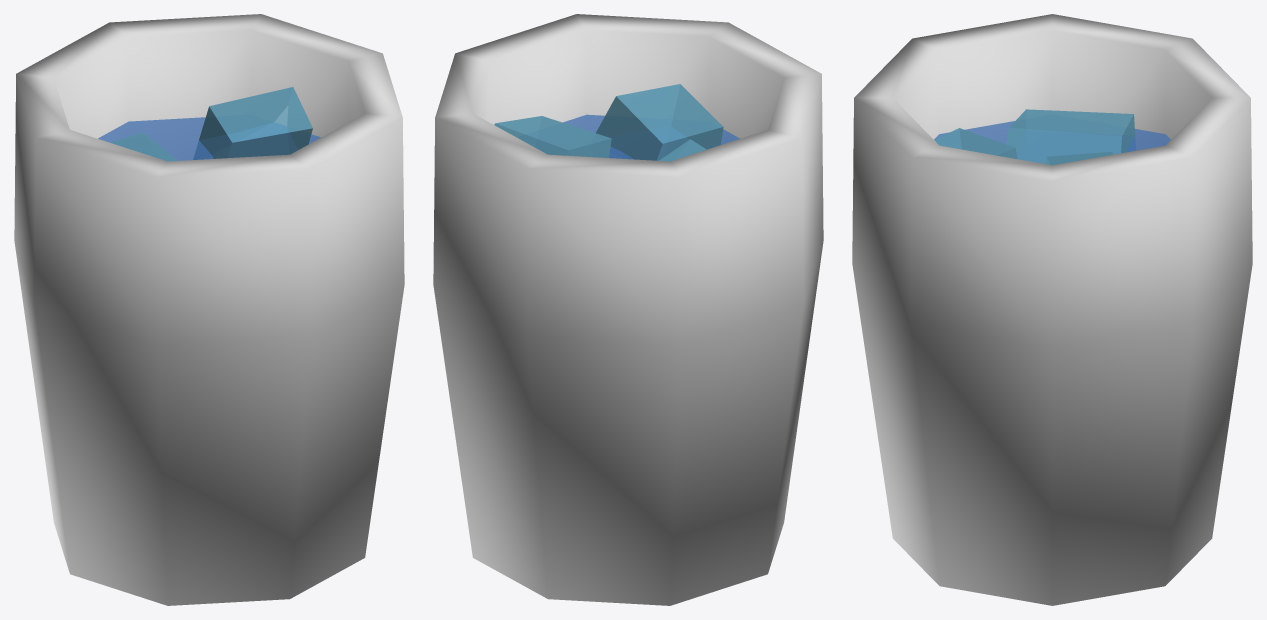
File: ParisCup.glb
3 renders of one model, left to right at view 1: azimuth 30°, elevation 25°; view 2: azimuth 150°, elevation 25°; view 3: azimuth 270°, elevation 25°, orthographic.
Visible parts, largest first — view 1: Cup, Ice.001, Water, Ice.003; view 2: Cup, Ice.002, Ice.001, Water; view 3: Cup, Ice.003, Water, Ice.002.
Part boxes in pixels (x1=…): Cup: x1=14, y1=14, x2=404, y2=605; Ice.001: x1=193, y1=87, x2=312, y2=159; Water: x1=98, y1=117, x2=320, y2=160; Ice.003: x1=111, y1=132, x2=177, y2=161; Cup: x1=433, y1=14, x2=823, y2=605; Ice.002: x1=596, y1=84, x2=723, y2=160; Ice.001: x1=494, y1=116, x2=611, y2=157; Water: x1=563, y1=114, x2=739, y2=160; Cup: x1=852, y1=14, x2=1252, y2=605; Ice.003: x1=1006, y1=109, x2=1135, y2=163; Water: x1=934, y1=121, x2=1170, y2=162; Ice.002: x1=934, y1=128, x2=1017, y2=159.
Bounding box in the file's own units: 0.0913 × 0.1108 × 0.0913.
